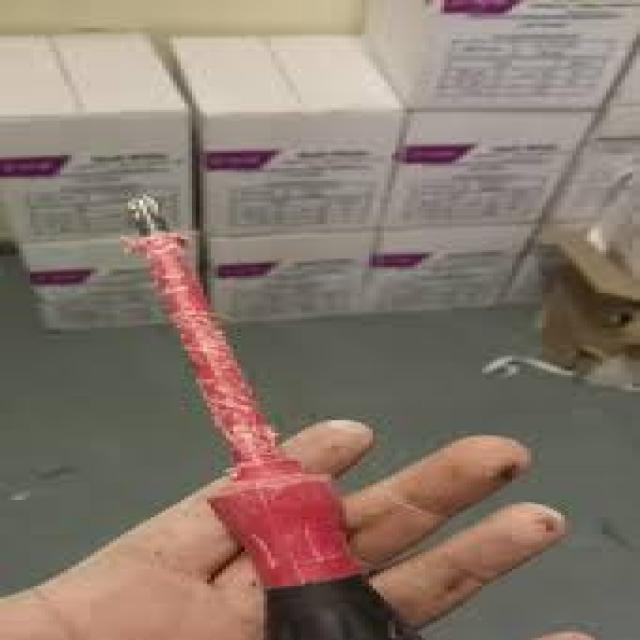screwdriver: (113, 185, 433, 640)
